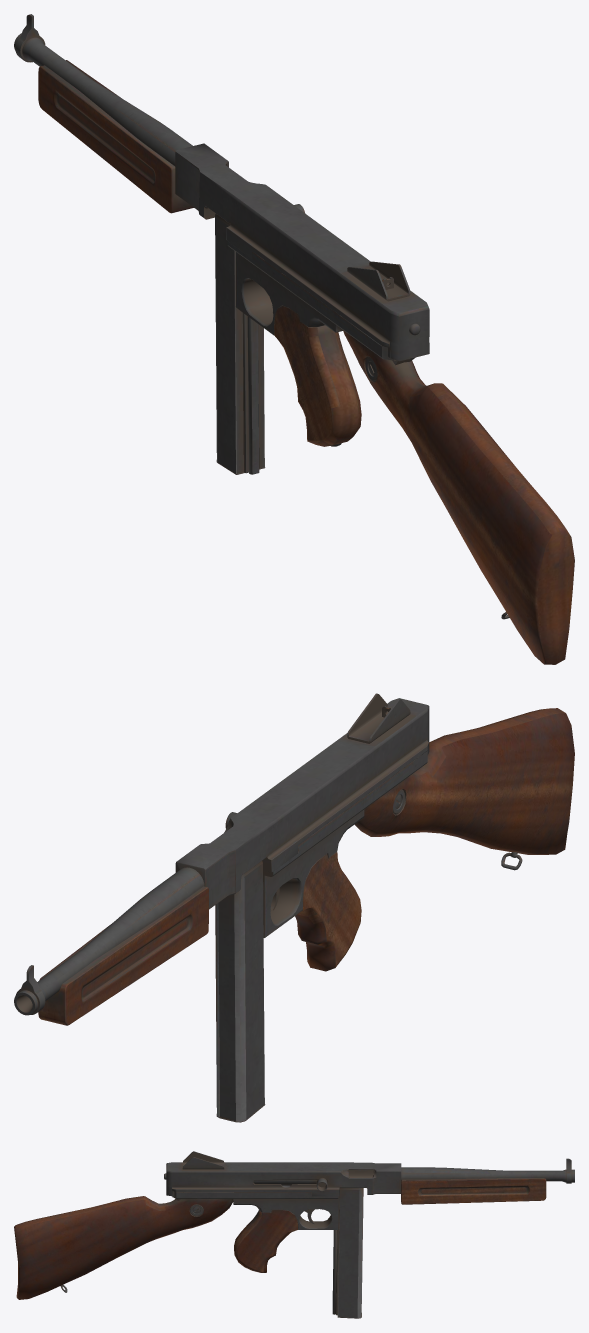
File: Tommy.glb
The picture shows the model from 3 angles, top to bottom: view 1: azimuth 30°, elevation 25°; view 2: azimuth 150°, elevation 25°; view 3: azimuth 270°, elevation 25°; orthographic projection. The views are drawn at different scales.
Parts seen in each view (by area): view 1: Tommy_Body, Mag; view 2: Tommy_Body, Mag; view 3: Tommy_Body, Mag.
Boxes of the visible parts, bbox=[...] form: Tommy_Body: bbox=[14, 14, 574, 664]; Mag: bbox=[215, 213, 265, 474]; Tommy_Body: bbox=[14, 693, 574, 1025]; Mag: bbox=[215, 861, 265, 1122]; Tommy_Body: bbox=[14, 1151, 574, 1299]; Mag: bbox=[332, 1188, 363, 1318].
Bounding box in the file's own units: 0.0506 × 0.2561 × 0.81.
Materials: 1 (1 with a texture image).
